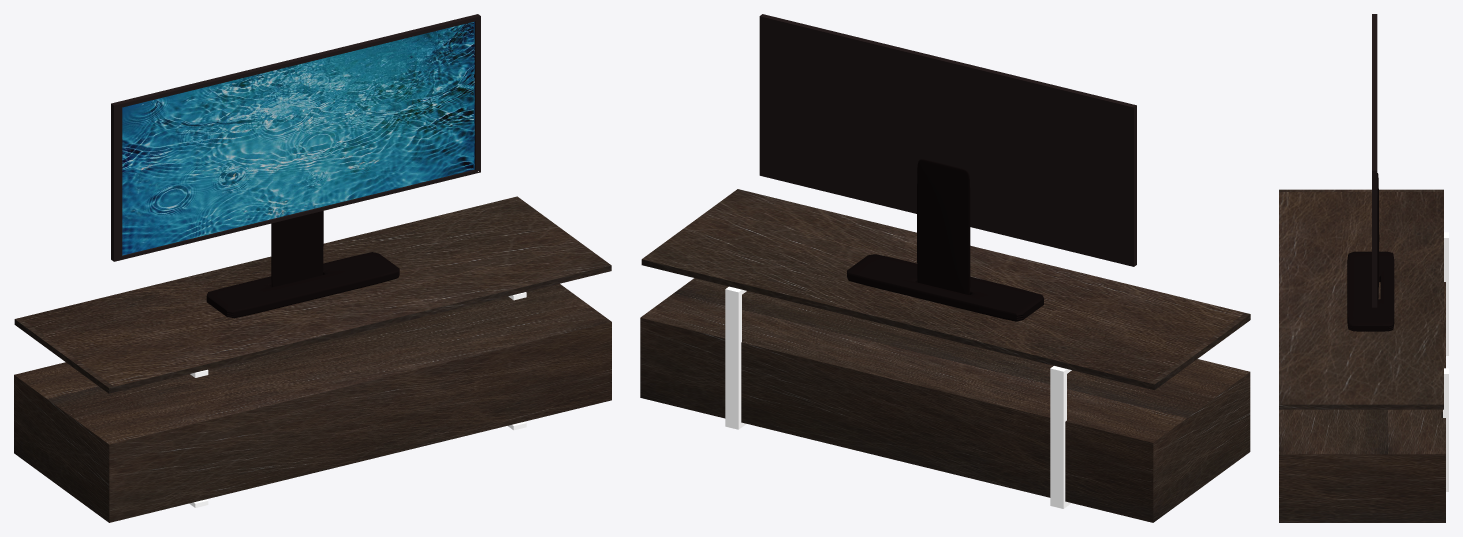
The picture shows the model from 3 angles, left to right: view 1: azimuth 30°, elevation 25°; view 2: azimuth 150°, elevation 25°; view 3: azimuth 270°, elevation 25°; orthographic projection. The views are drawn at different scales.
Parts seen in each view (by area): view 1: Geode (×5); view 2: Geode (×7); view 3: Geode (×7).
Boxes of the visible parts, x1,y1,x2,y2 form: Geode (×5): (14, 14, 611, 522); Geode (×7): (640, 14, 1250, 522); Geode (×7): (1279, 14, 1448, 522).
Bounding box in the file's own units: 110 × 77.19 × 36.65.
Materials: 6 (3 with a texture image).
